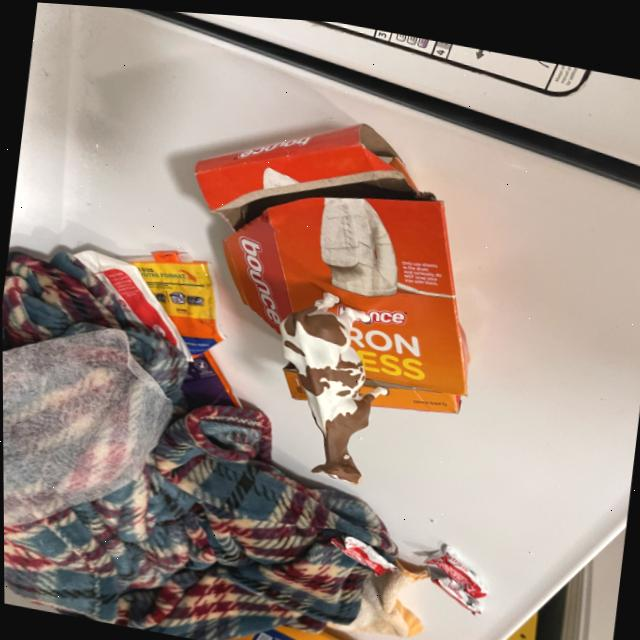cow: (267, 279, 408, 489)
